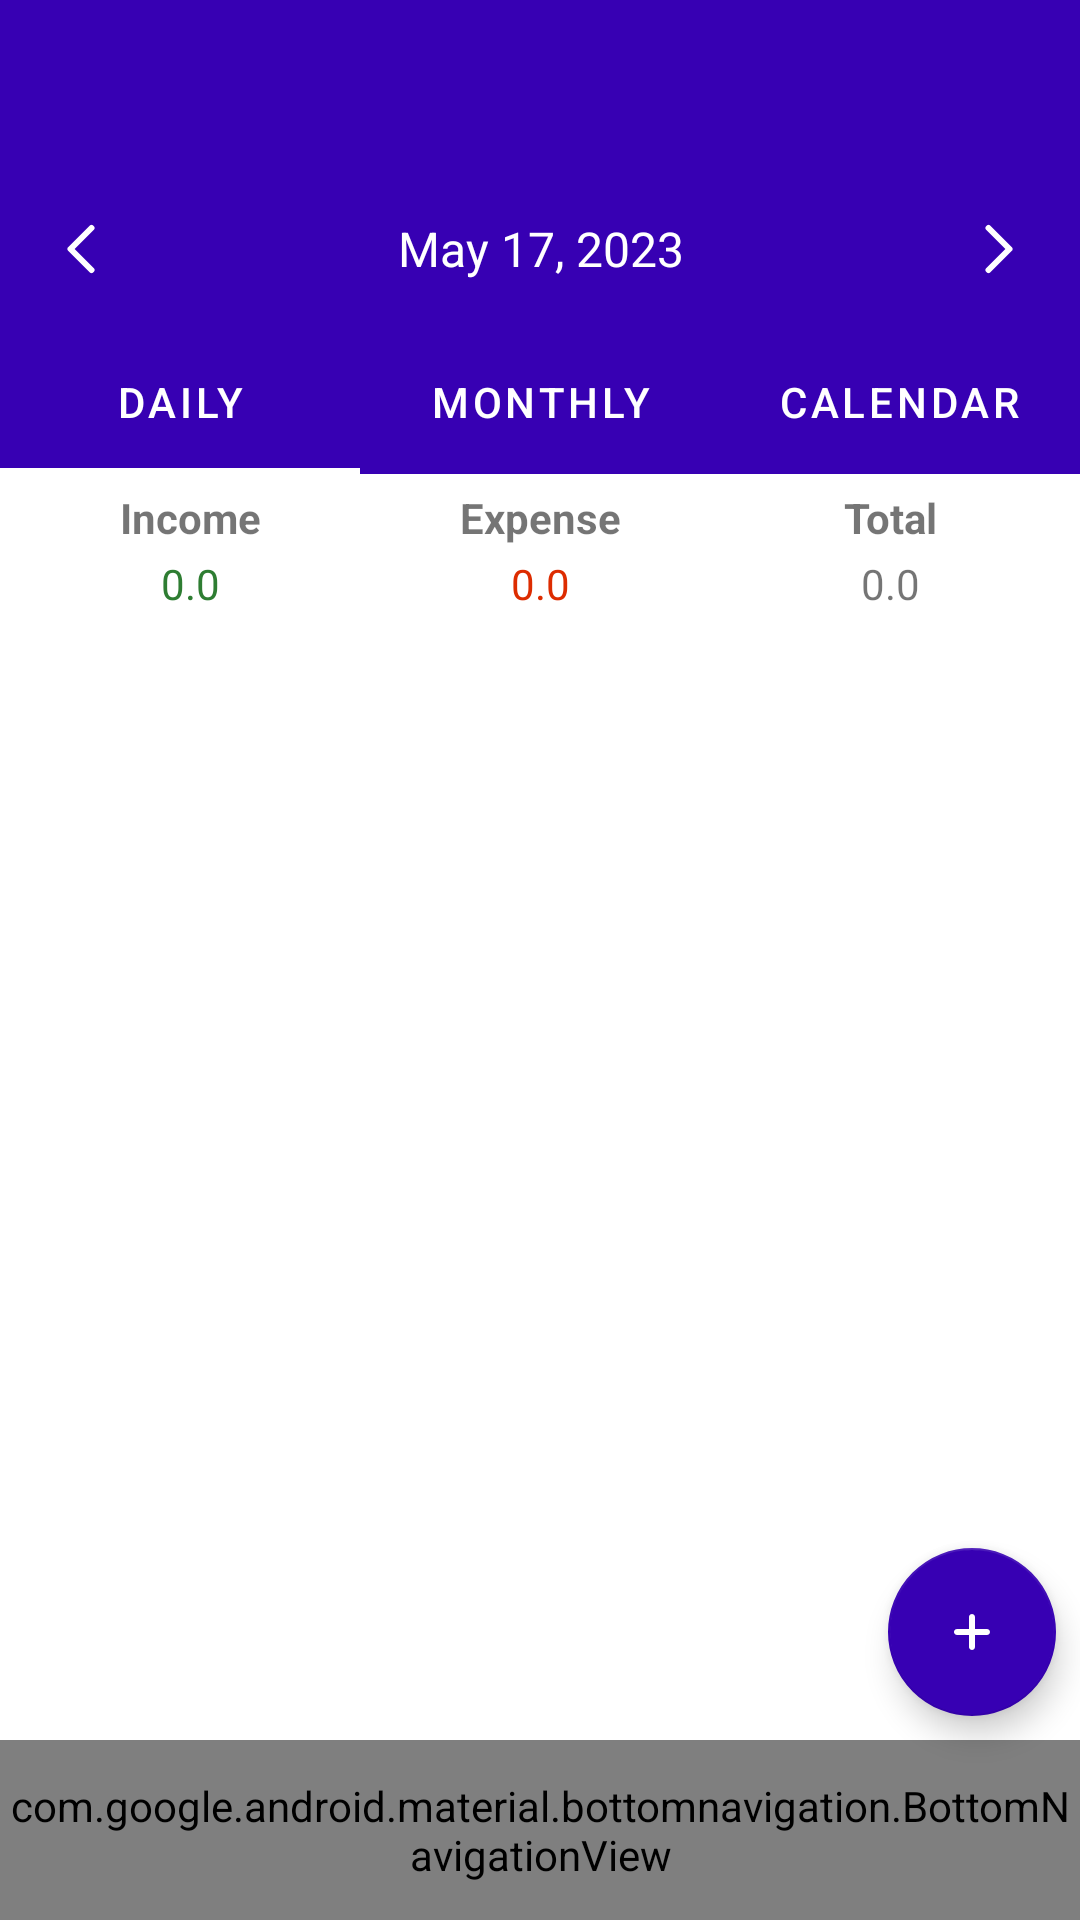

Icon bounding boxes for this 1080w x 1920h phone screenshot, format (x1=x1, y1=y1, x2=x2, y2=y2):
plus: (x1=888, y1=1548, x2=1056, y2=1716)
